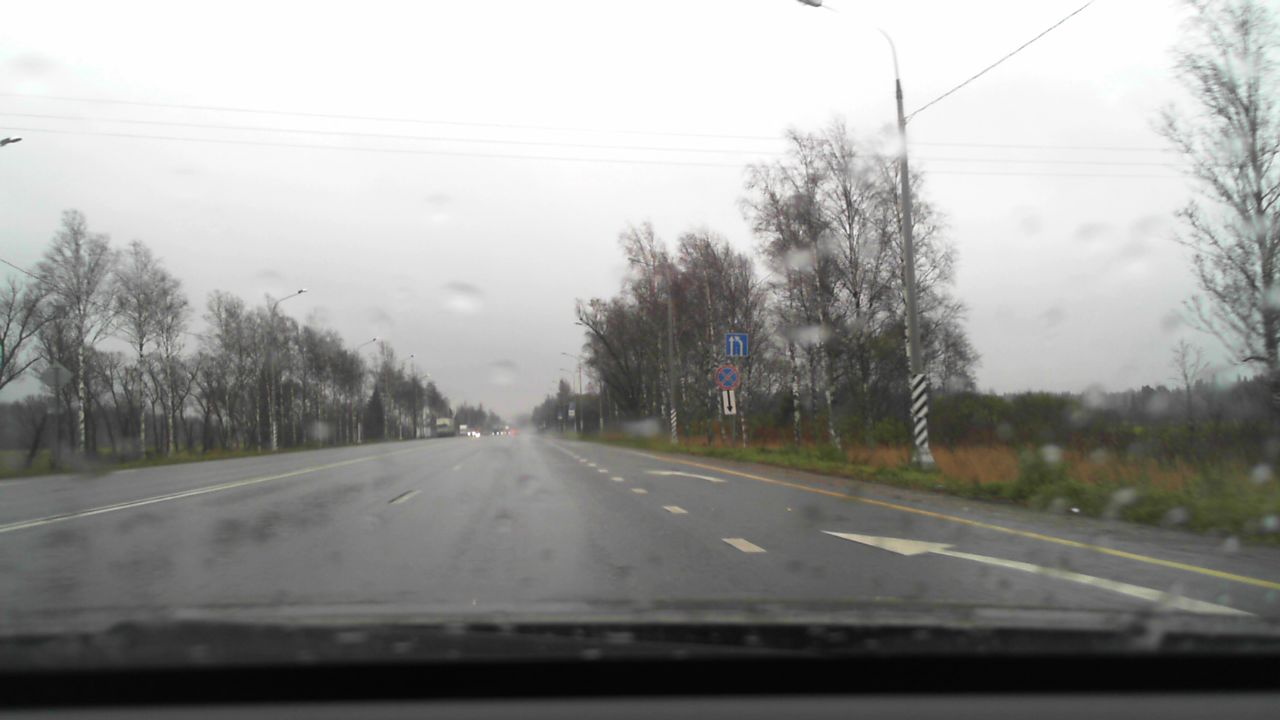No Parking: (716, 365, 739, 388)
